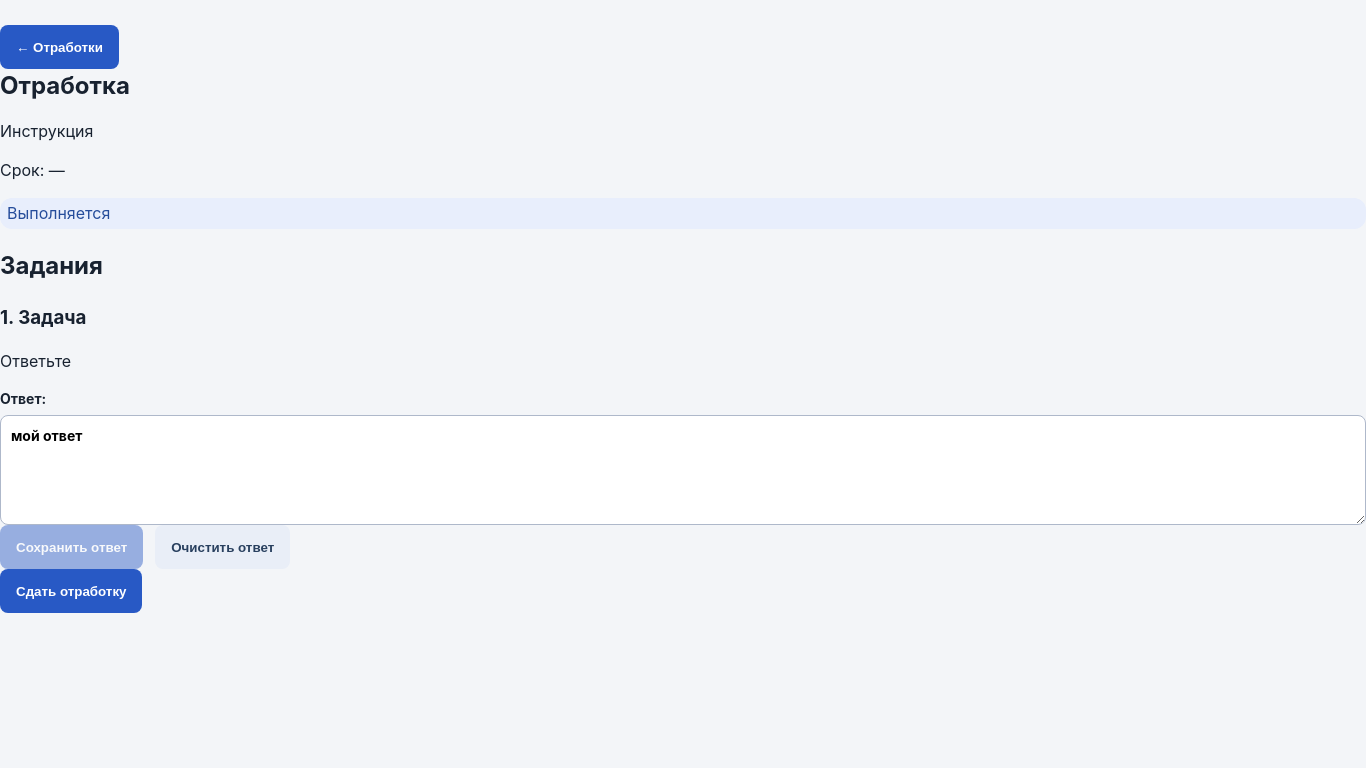
StudentRemediationDetailPage C9 execution › confirms submit, reports success, and reloads
Click the button "Сдать отработку" at (71, 591), box 0,569 -> 142,613
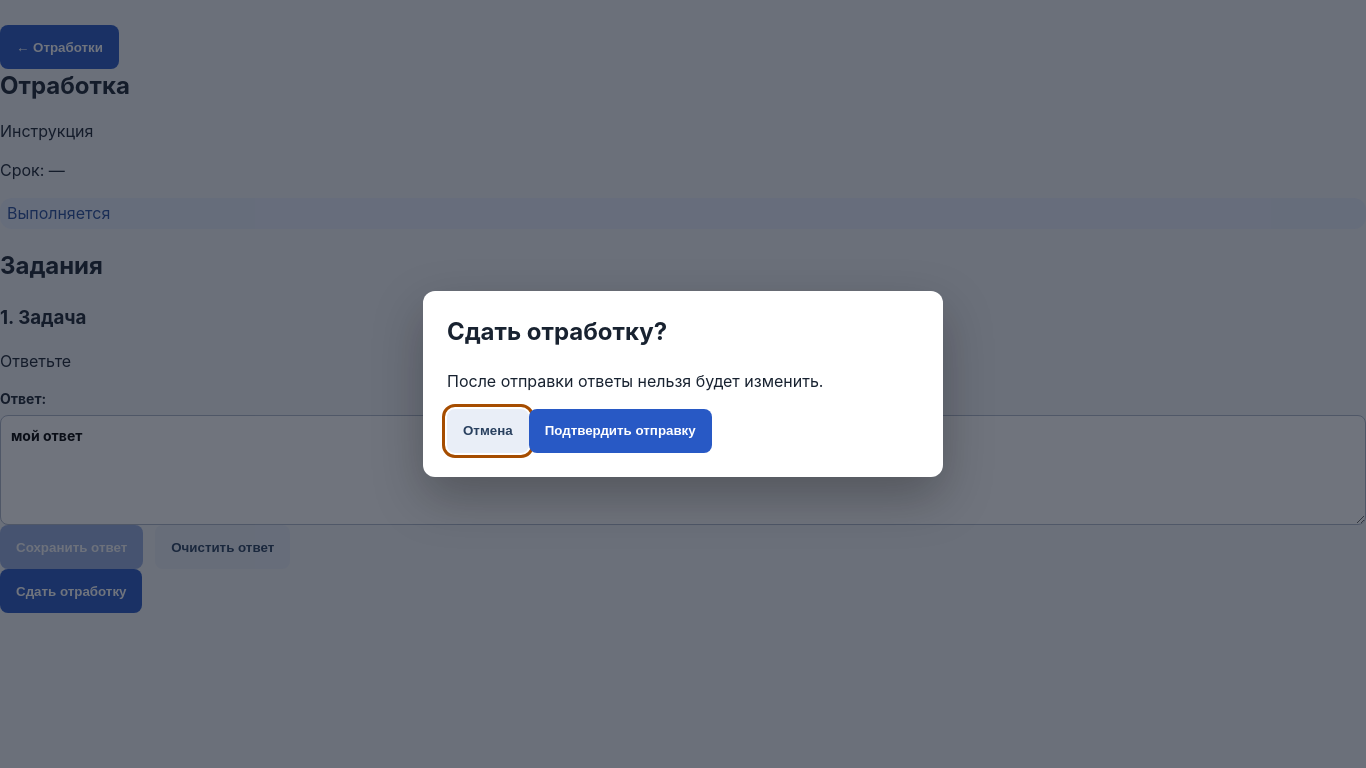
Click the button "Подтвердить отправку" at (620, 431), box 529,409 -> 712,453
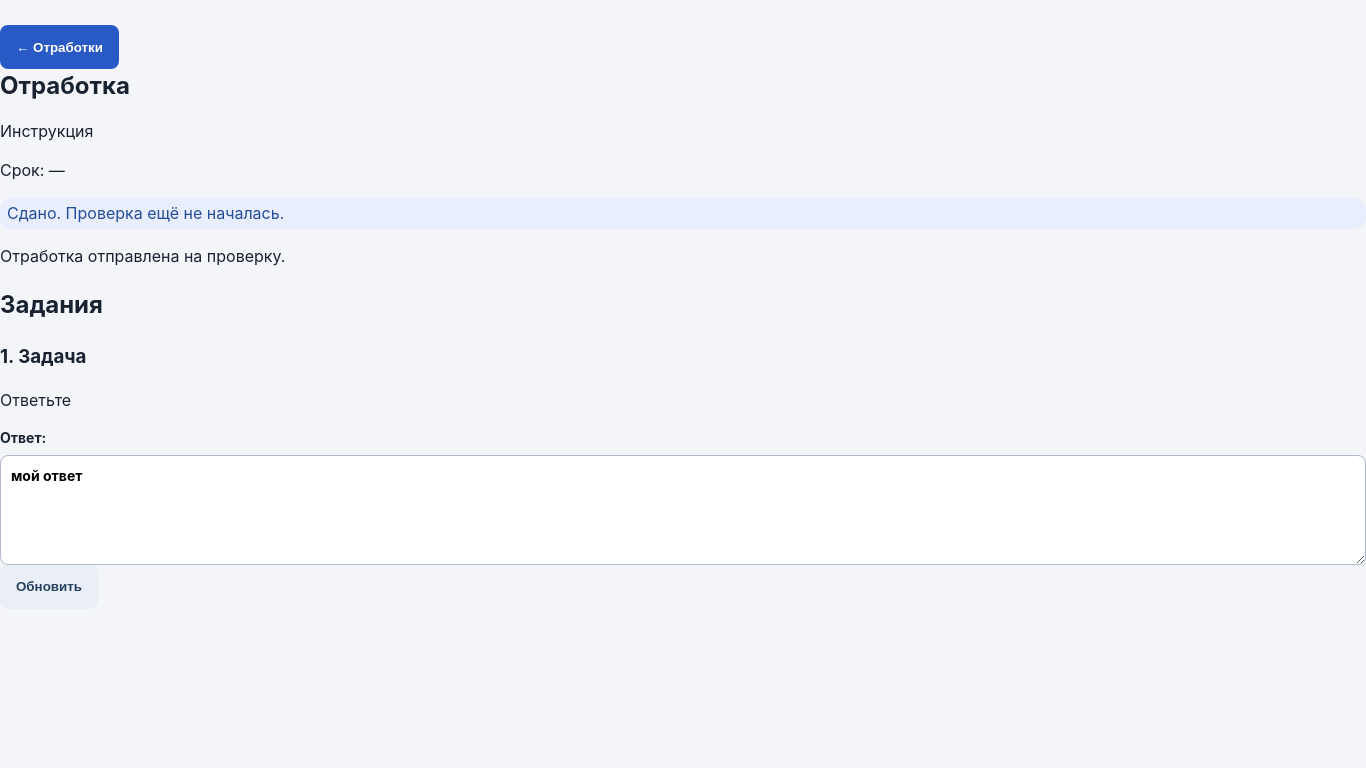
Result: the text "Отработка отправлена на проверку." is shown at 0,246 -> 285,266
